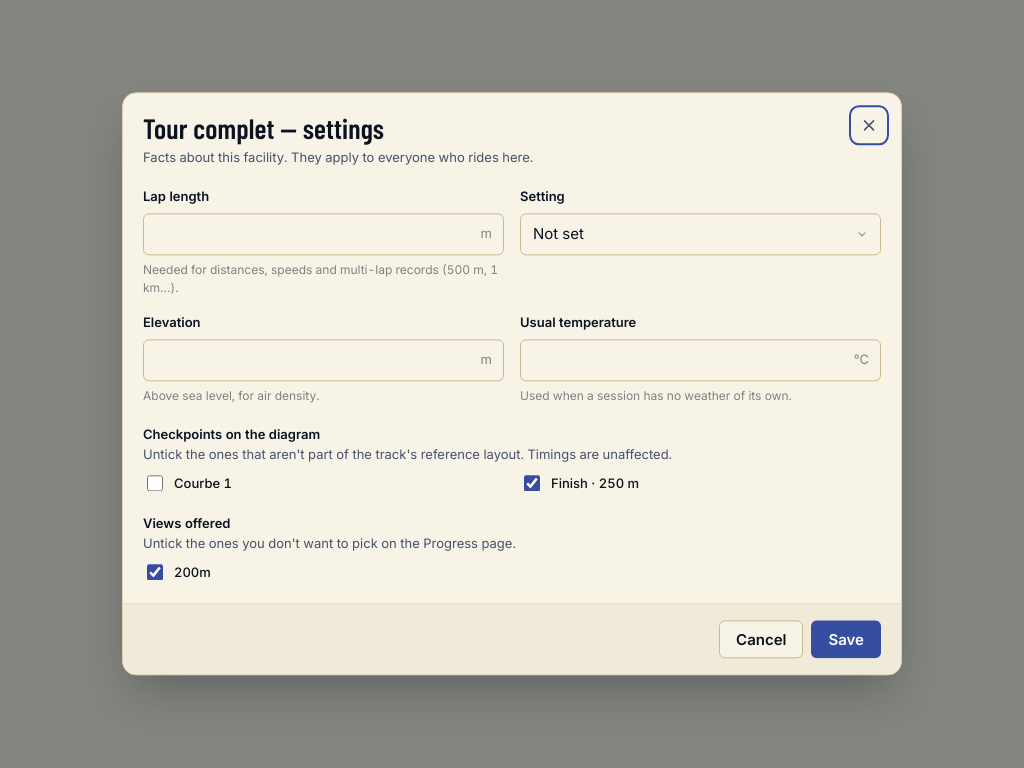
TrackSettingsDialog › won't save a value the backend would reject
Type "5000" into the number field labelled "Lap length" at (324,234), box [143,213,504,256]
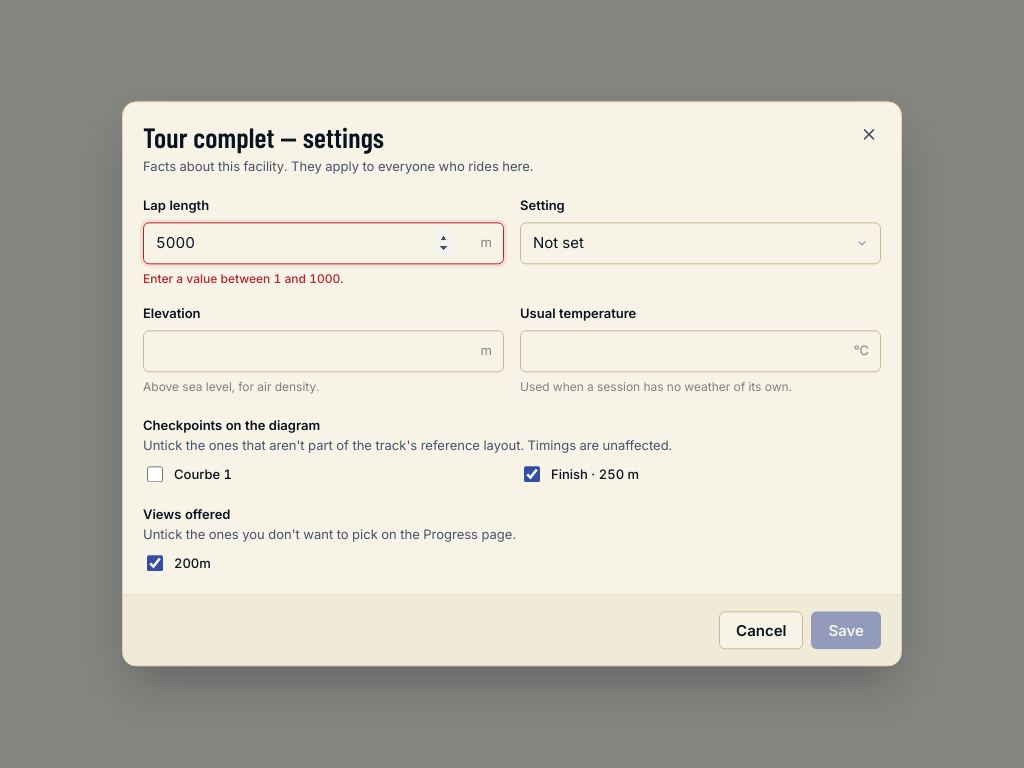
expect the text "Enter a value between 1 and 1000." is shown: met, box [143,272,344,287]
expect the button "Save" is disabled: met, box [812,612,881,650]
